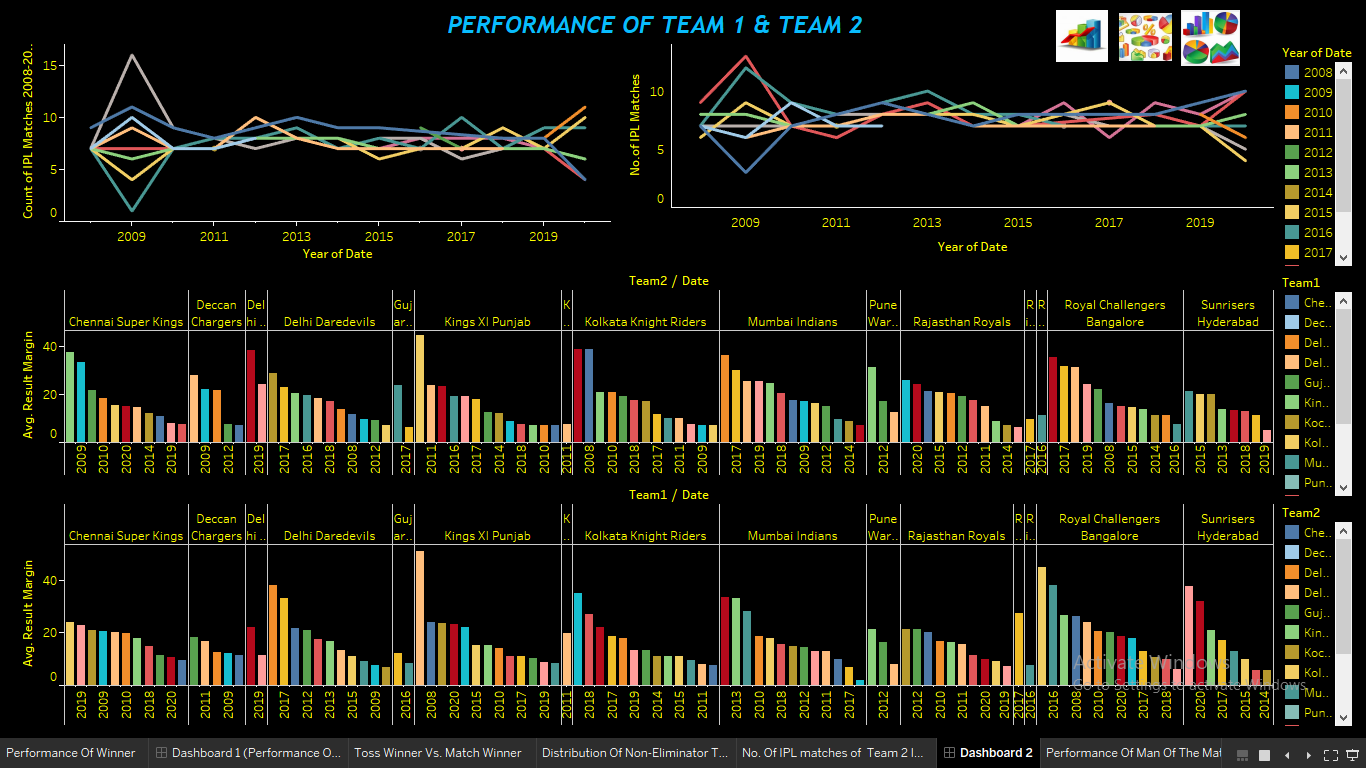

What the dashboard file says about the page in this screenshot:
{"tool":"tableau","page":{"name":"Dashboard 2","canvas":[1000,1000],"units":"permille","ordinal":1},"visuals":[{"type":"worksheet","box":[0,0,1000,1000]},{"type":"worksheet","title":"Sheet 11","mark":"Shape","box":[810.9,1.7,49.4,98]},{"type":"worksheet","title":"Sheet 11 (3)","mark":"Shape","box":[861.1,3.4,56.1,99.7]},{"type":"worksheet","param":"vert","box":[6.7,13.5,986.6,973]},{"type":"worksheet","box":[6.7,13.5,986.6,54.1]},{"type":"worksheet","title":"Sheet 11 (2)","mark":"Shape","box":[764.9,13.5,54.4,71]},{"type":"worksheet","param":"horz","box":[6.7,67.6,986.6,918.9]},{"type":"worksheet","param":"horz","box":[6.7,67.6,919.7,918.9]},{"type":"worksheet","param":"horz","box":[6.7,67.6,919.7,918.9]},{"type":"worksheet","param":"horz","box":[6.7,67.6,919.7,918.9]},{"type":"worksheet","box":[6.7,67.6,919.7,918.9]},{"type":"worksheet","title":"No. Of IPL matches of  Team 1 in each year","mark":"Line","rows":["IPL Matches 2008-2020.csv_1DFE9E7870B74E439A1DC44C3143495B"],"cols":["date"],"box":[6.7,67.6,439.1,300.8]},{"type":"worksheet","title":"No. Of IPL matches of  Team 2 In Each Year","mark":"Automatic","rows":["IPL Matches 2008-2020.csv_1DFE9E7870B74E439A1DC44C3143495B"],"cols":["date"],"box":[445.8,67.6,480.6,300.8]},{"type":"worksheet","param":"vert","box":[926.4,67.6,67,918.9]},{"type":"worksheet","title":"Sheet 9","mark":"Bar","rows":["result_margin"],"cols":["team1","date"],"param":"[federated.14qchaf0vuyj3e105ko2e114qr22].[yr:date:ok]","box":[926.4,67.6,67,306.3]},{"type":"worksheet","title":"Sheet 10","mark":"Bar","rows":["result_margin"],"cols":["team2","date"],"box":[6.7,368.4,919.7,285.5]},{"type":"worksheet","title":"No. Of IPL matches of  Team 1 in each year","mark":"Line","rows":["IPL Matches 2008-2020.csv_1DFE9E7870B74E439A1DC44C3143495B"],"cols":["date"],"param":"[federated.14qchaf0vuyj3e105ko2e114qr22].[none:team1:nk]","box":[926.4,373.9,67,306.3]},{"type":"worksheet","title":"Sheet 9","mark":"Bar","rows":["result_margin"],"cols":["team1","date"],"box":[6.7,653.9,919.7,332.6]},{"type":"worksheet","title":"No. Of IPL matches of  Team 2 In Each Year","mark":"Automatic","rows":["IPL Matches 2008-2020.csv_1DFE9E7870B74E439A1DC44C3143495B"],"cols":["date"],"param":"[federated.14qchaf0vuyj3e105ko2e114qr22].[none:team2:nk]","box":[926.4,680.2,67,306.3]}]}

Visuals, with their boxes on the dashboard's canvas, which has no fixed pixel size, in thousandths of its width and height (x1, y1, x2, y2). These are canvas units, not pixel positions in the 1366x768 screenshot, which may show the page scaled, cropped or inside an application window:
worksheet: 0 0 1000 1000
"Sheet 11" worksheet (Shape marks): 811 2 860 100
"Sheet 11 (3)" worksheet (Shape marks): 861 3 917 103
worksheet: 7 14 993 986
worksheet: 7 14 993 68
"Sheet 11 (2)" worksheet (Shape marks): 765 14 819 84
worksheet: 7 68 993 986
worksheet: 7 68 926 986
worksheet: 7 68 926 986
worksheet: 7 68 926 986
worksheet: 7 68 926 986
"No. Of IPL matches of  Team 1 in each year" worksheet (Line marks): 7 68 446 368
"No. Of IPL matches of  Team 2 In Each Year" worksheet: 446 68 926 368
worksheet: 926 68 993 986
"Sheet 9" worksheet (Bar marks): 926 68 993 374
"Sheet 10" worksheet (Bar marks): 7 368 926 654
"No. Of IPL matches of  Team 1 in each year" worksheet (Line marks): 926 374 993 680
"Sheet 9" worksheet (Bar marks): 7 654 926 986
"No. Of IPL matches of  Team 2 In Each Year" worksheet: 926 680 993 986
